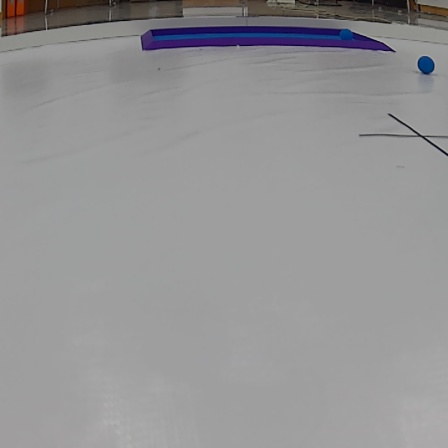blue: (415, 55, 439, 73), (337, 27, 356, 41)
blue_aim: (135, 23, 397, 56)
